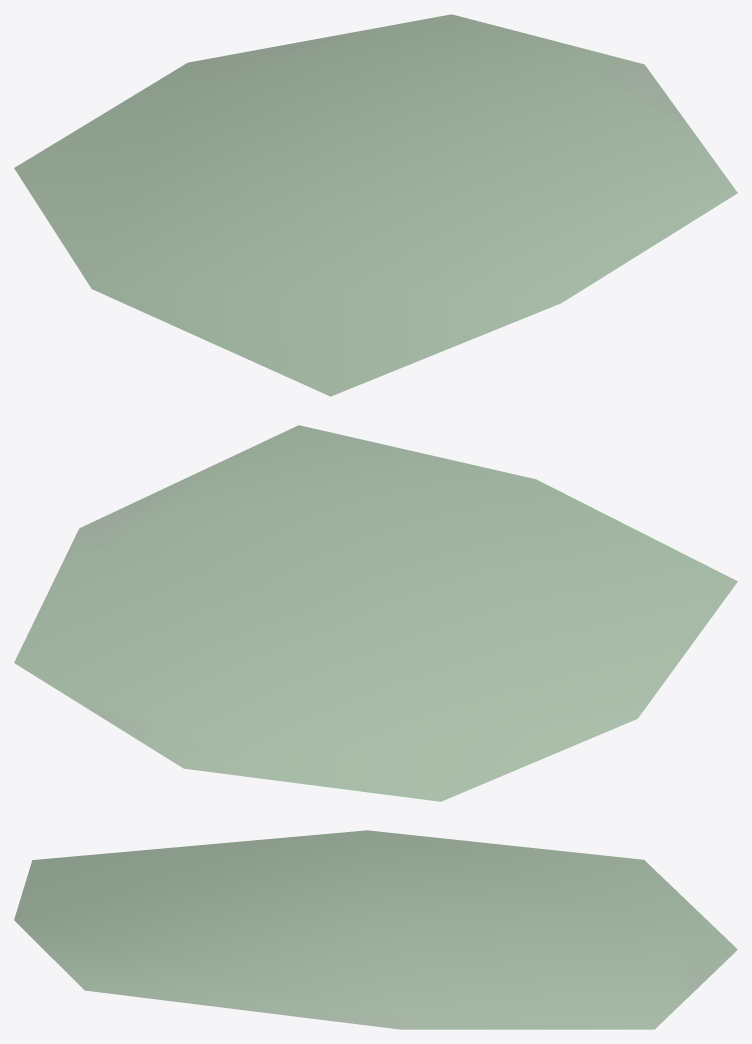
The model's file is TROLLHOLE02_HOLECAP14.fbx.
The picture shows the model from 3 angles, top to bottom: view 1: azimuth 30°, elevation 25°; view 2: azimuth 150°, elevation 25°; view 3: azimuth 270°, elevation 25°; orthographic projection. The views are drawn at different scales.
Visible parts, largest first — view 1: TROLLHOLE02_HOLECAP14; view 2: TROLLHOLE02_HOLECAP14; view 3: TROLLHOLE02_HOLECAP14.
Part boxes in pixels (bbox=[...]): TROLLHOLE02_HOLECAP14: bbox=[14, 14, 737, 396]; TROLLHOLE02_HOLECAP14: bbox=[14, 425, 737, 801]; TROLLHOLE02_HOLECAP14: bbox=[14, 830, 737, 1029].
Bounding box in the file's own units: 26910 × 3607 × 30425.
1 material, 1 textured.
